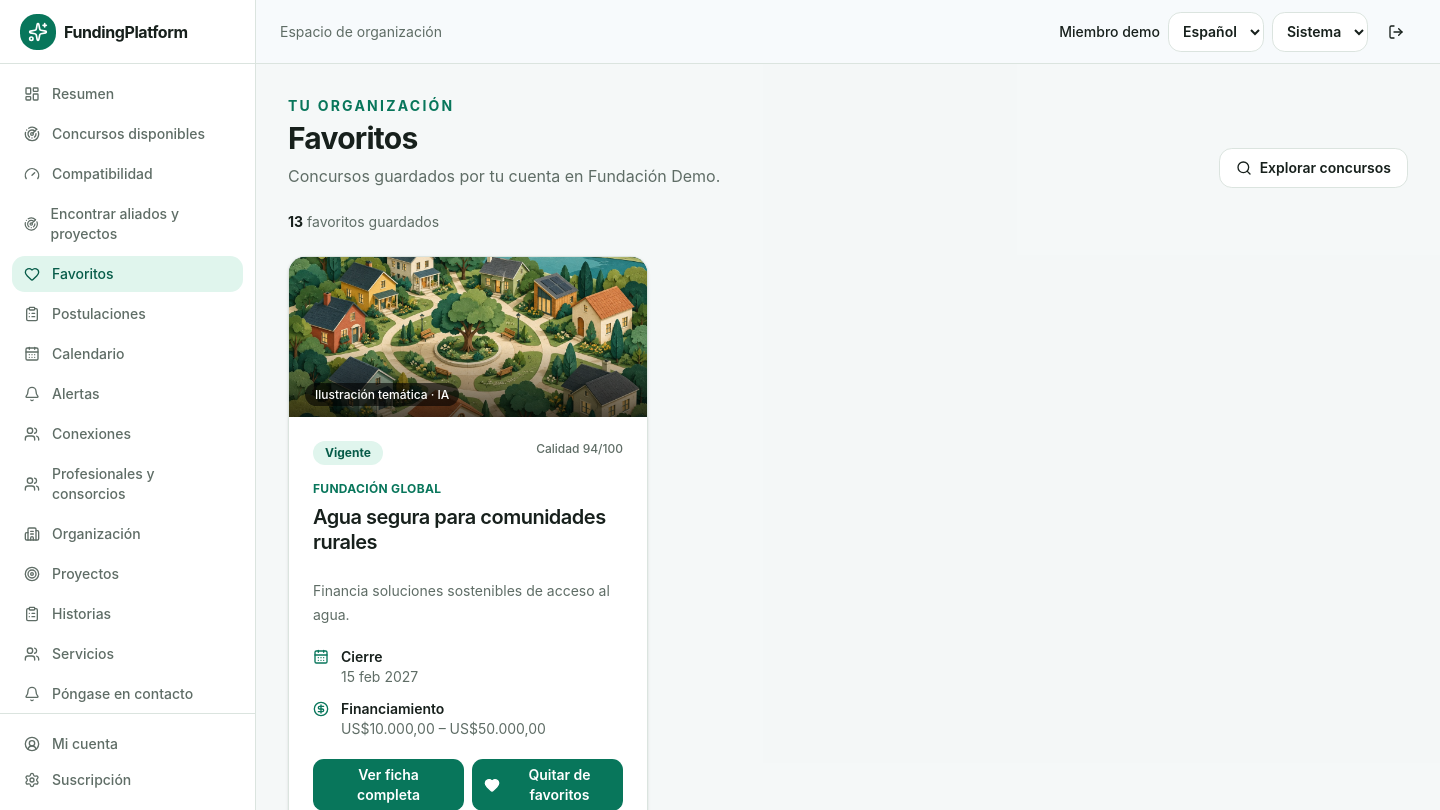
Test: oportunidades de la organización › vuelve a la página anterior al quitar el último favorito de una página
The width and height of the screenshot is (1440, 810).
Expected: the heading "Agua segura para comunidades rurales" is shown, [313,505,623,555]
Click the button "Quitar de favoritos" at (548, 785), box [472,759,623,809]
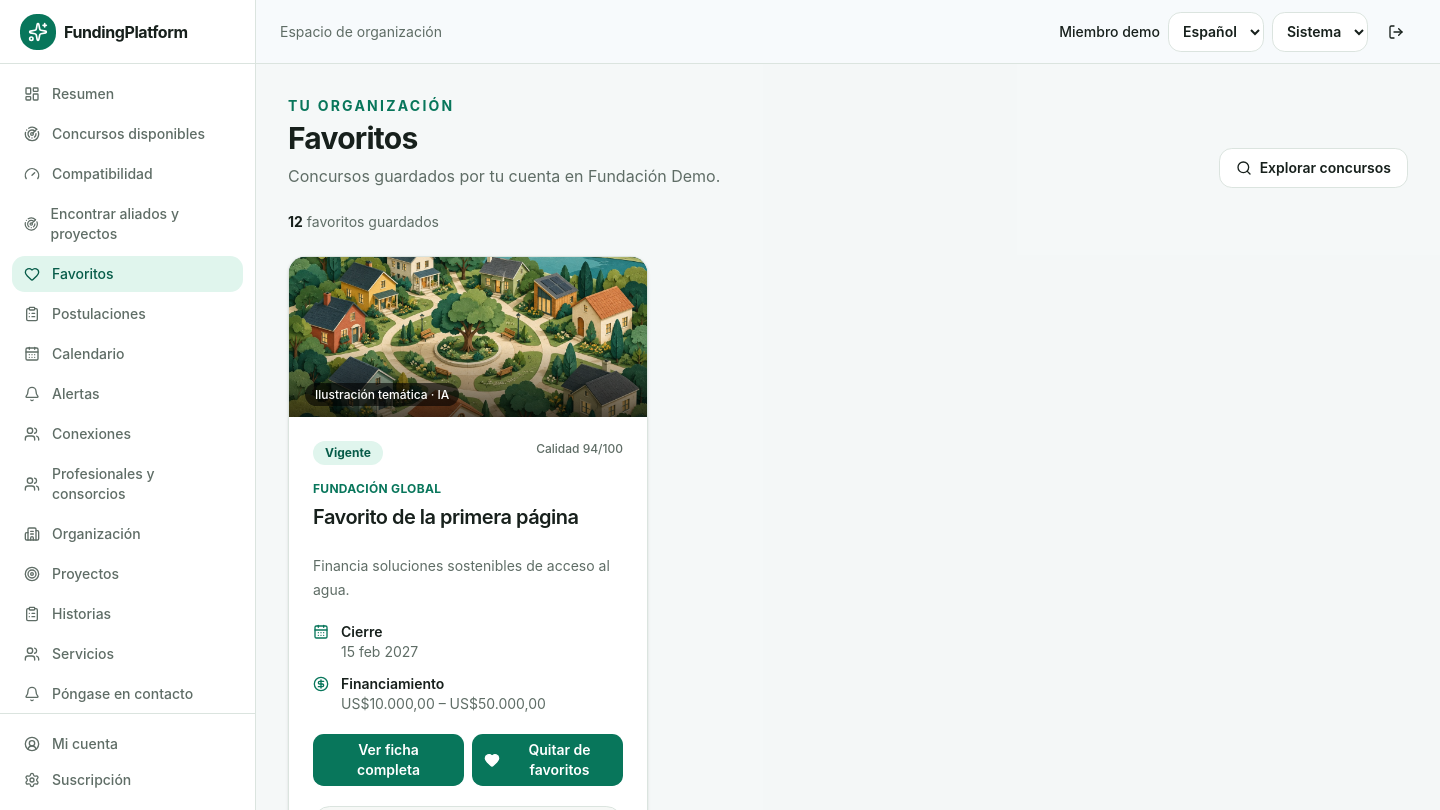
Expected: the heading "Favorito de la primera página" is shown, [313,505,623,530]
